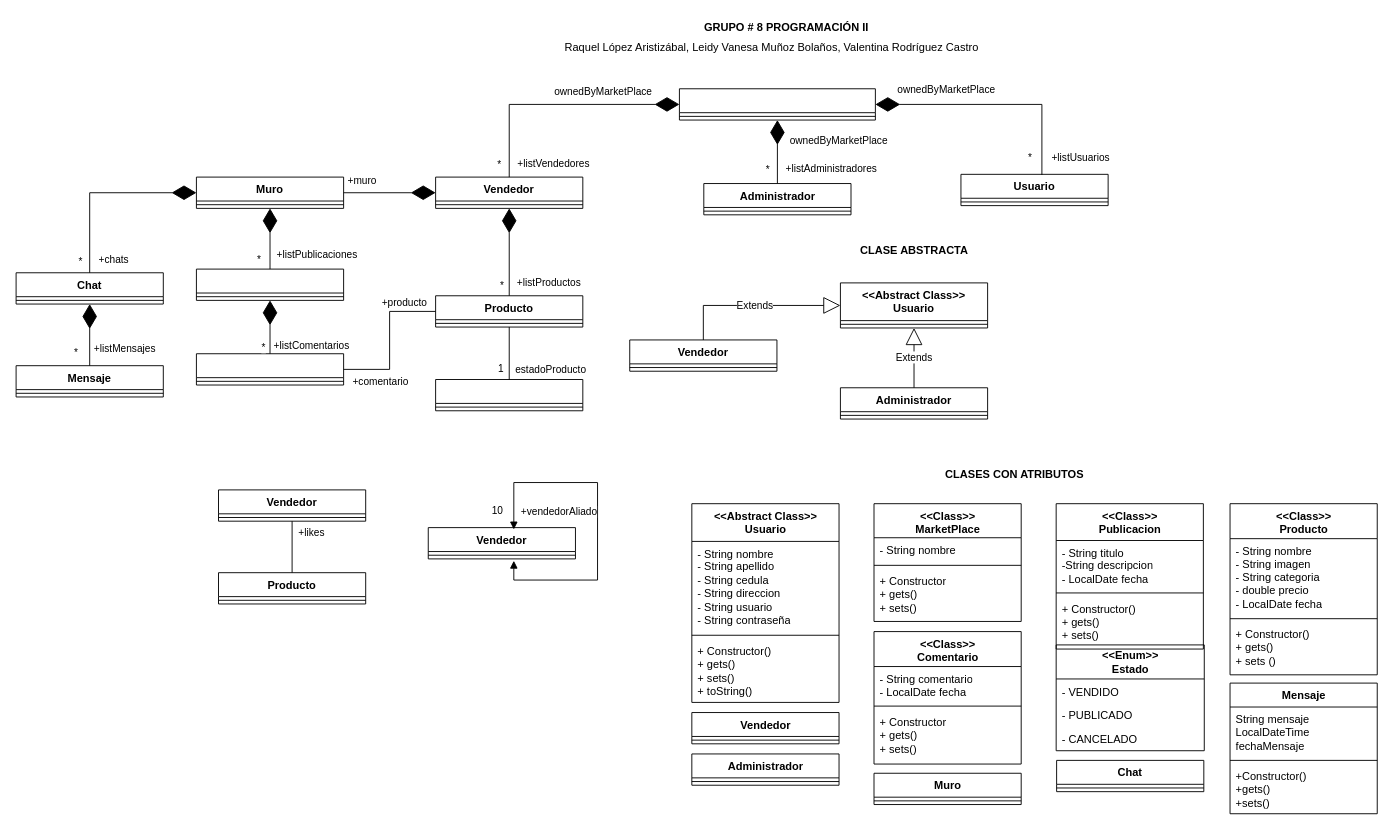
The diagram is 1394 pixels wide and 832 high, and some of its shapes have lost their labels. Each missing label, with the centre of its shape:
"Comentario" belongs at point (270, 369).
"Estado" belongs at point (509, 395).
"MarketPlace" belongs at point (776, 104).
"Publicacion" belongs at point (270, 284).
